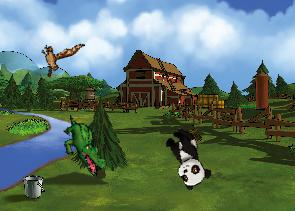crocodile: (49, 113, 118, 178)
eagle: (31, 27, 85, 85)
panda: (159, 124, 214, 191)
